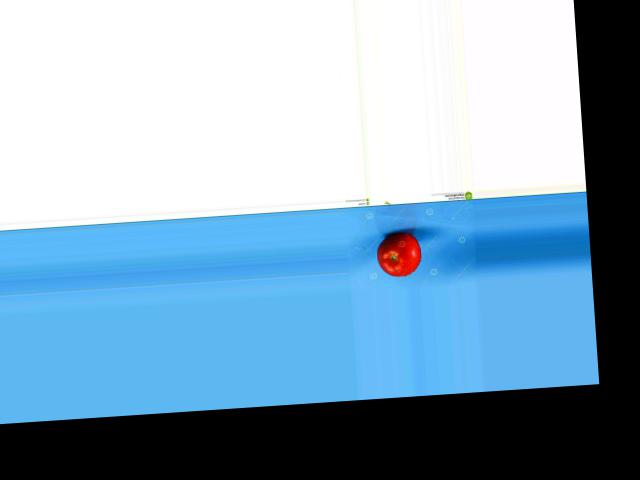tomato: (374, 232, 422, 277)
